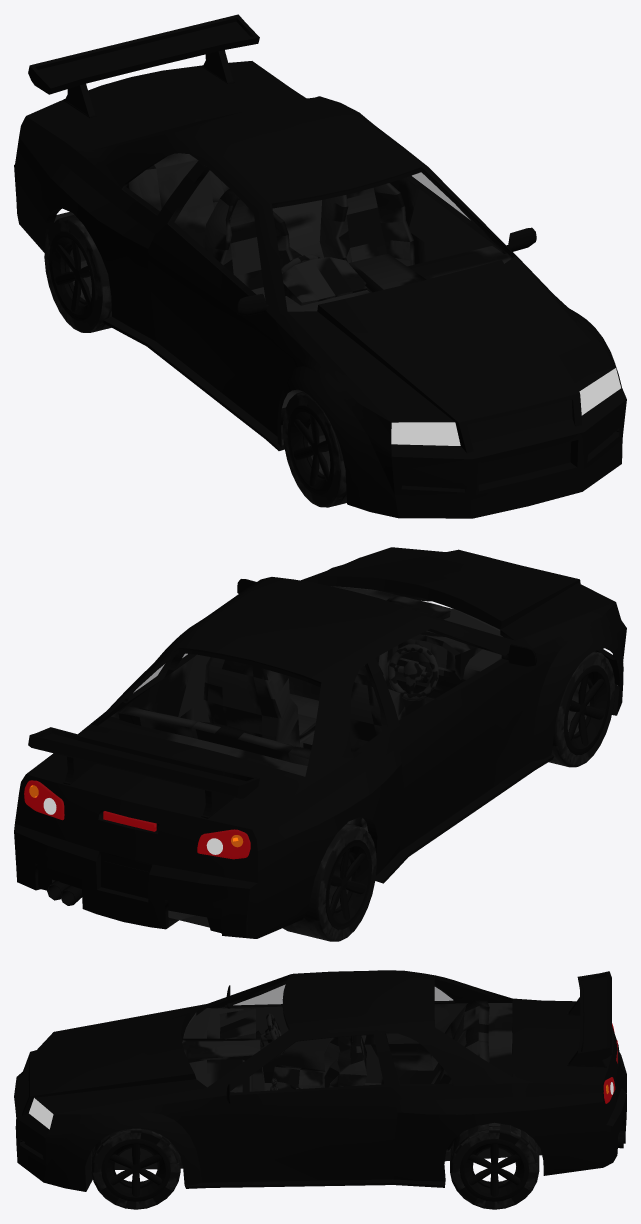
The model's file is low_poly_jdm_sports_car_skyline_ab0b231a.glb.
3 views of the same model, one above another, from view 1: azimuth 30°, elevation 25°; view 2: azimuth 150°, elevation 25°; view 3: azimuth 270°, elevation 25° (orthographic). The views are drawn at different scales.
Visible parts, largest first — view 1: JDM_Body, JDM_Interior, Wheel_RR, Wheel_FR; view 2: JDM_Body, JDM_Interior, Wheel_RR, Wheel_FR, SteeringWheel, Plate; view 3: JDM_Body, JDM_Interior, Wheel_RL, Wheel_FL, SteeringWheel.
Boxes of the visible parts, box(x1,y1,x2,y2) form: JDM_Body: box(14, 14, 626, 518); JDM_Interior: box(126, 153, 512, 425); Wheel_RR: box(44, 214, 111, 332); Wheel_FR: box(282, 391, 346, 507); JDM_Body: box(14, 547, 626, 938); JDM_Interior: box(98, 586, 502, 831); Wheel_RR: box(283, 823, 376, 941); Wheel_FR: box(549, 651, 614, 767); SteeringWheel: box(388, 644, 438, 700); Plate: box(104, 861, 148, 883); JDM_Body: box(14, 970, 626, 1191); JDM_Interior: box(182, 1000, 512, 1150); Wheel_RL: box(450, 1122, 539, 1209); Wheel_FL: box(91, 1128, 180, 1209); SteeringWheel: box(260, 1013, 284, 1054).
Bounding box in the file's own units: 2.06 × 1.45 × 4.87.
11 materials, 11 textured.
